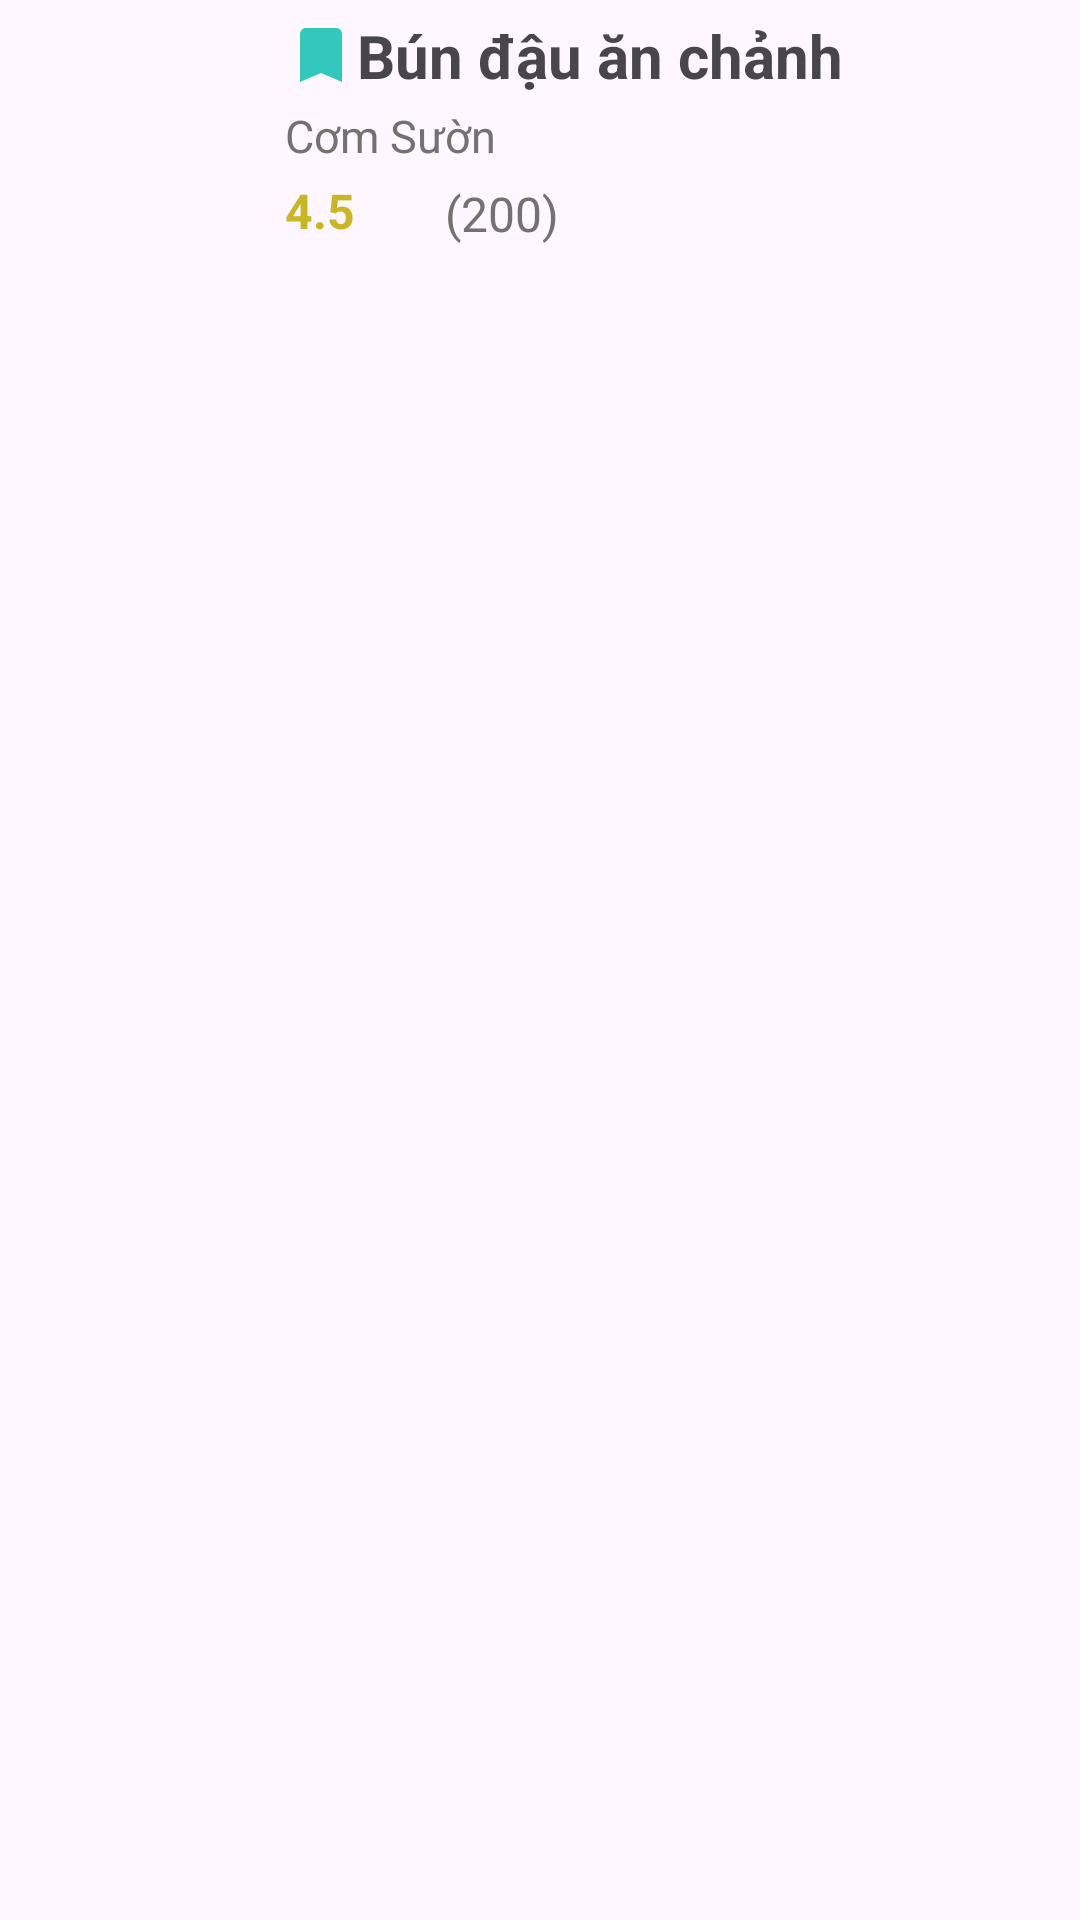

Where to tap for icons on this 1080×1920 app screen, as (x=x, y=y):
bookmark: (x=321, y=55)
